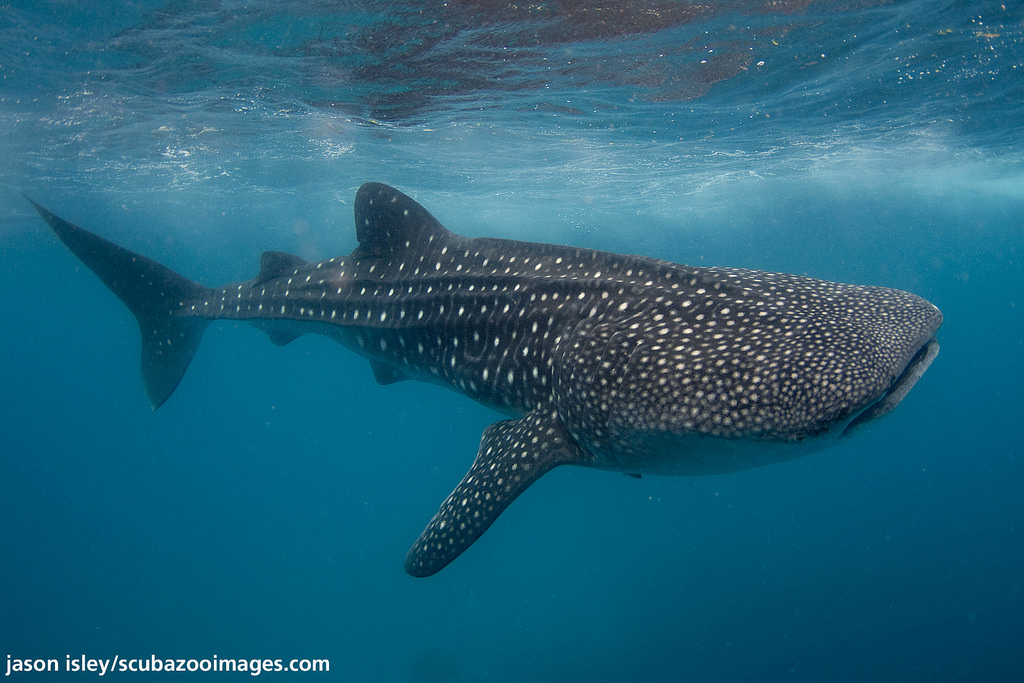Rhincodon_typusw: (19, 180, 979, 605)
